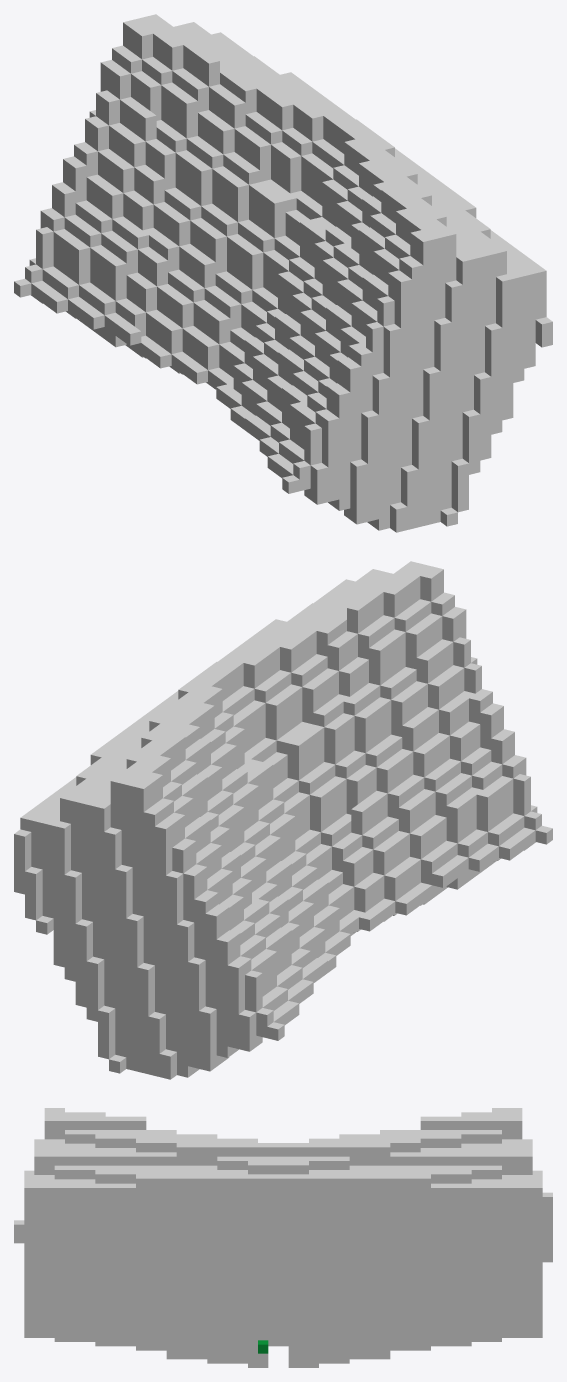
File: goodnight-moon-9-awake-pillow.obj
3 renders of one model, top to bottom at view 1: azimuth 30°, elevation 25°; view 2: azimuth 150°, elevation 25°; view 3: azimuth 270°, elevation 25°, orthographic. The views are drawn at different scales.
Parts seen in each view (by area): view 1: awake-pillow; view 2: awake-pillow; view 3: awake-pillow.
Boxes of the visible parts, box(x1,y1,x2,y2) form: awake-pillow: box(14, 14, 552, 532); awake-pillow: box(14, 561, 552, 1079); awake-pillow: box(14, 1108, 552, 1367).
Bounding box in the file's own units: 2.1 × 2.4 × 5.3.
1 material, 1 textured.
